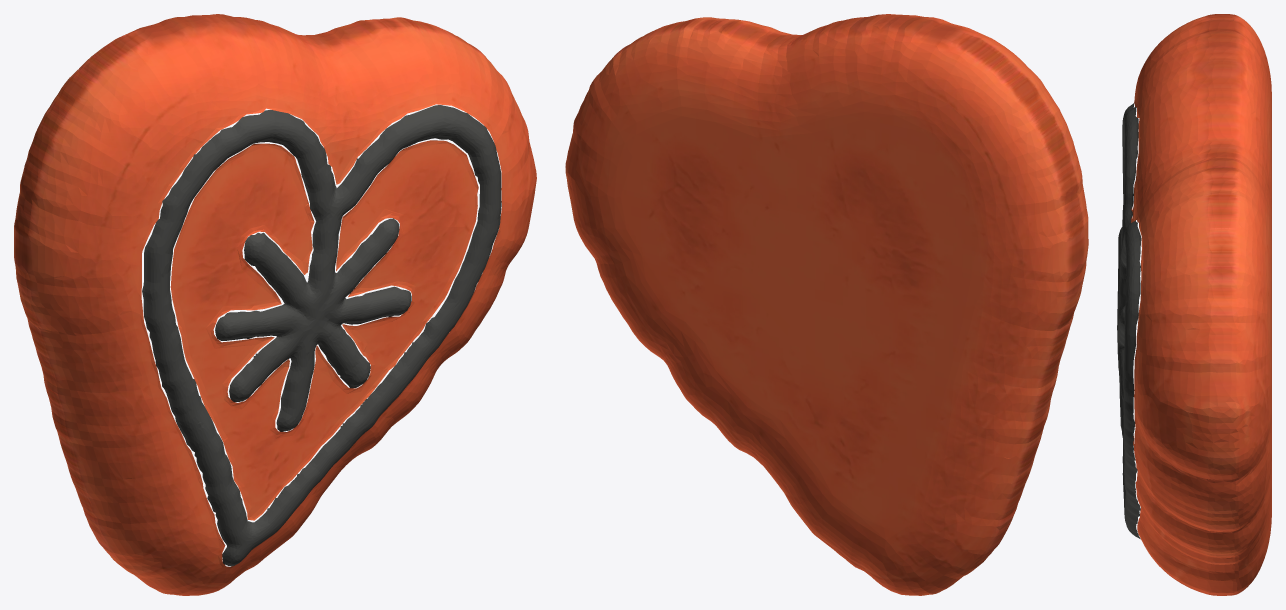
Rendered from IAMWE_XMAS_HEART_ORANGE.glb.
3 views of the same model, side by side, from view 1: azimuth 30°, elevation 25°; view 2: azimuth 150°, elevation 25°; view 3: azimuth 270°, elevation 25° (orthographic). The views are drawn at different scales.
Visible parts, largest first — view 1: heart_orange_paper, heart_orange_thread; view 2: heart_orange_paper; view 3: heart_orange_paper, heart_orange_thread.
Boxes of the visible parts, left/top/right/bottom form: heart_orange_paper: left=14, top=14, right=536, bottom=595; heart_orange_thread: left=142, top=105, right=501, bottom=566; heart_orange_paper: left=565, top=14, right=1088, bottom=595; heart_orange_paper: left=1131, top=14, right=1271, bottom=595; heart_orange_thread: left=1117, top=103, right=1141, bottom=539.
Bounding box in the file's own units: 0.9289 × 1 × 0.254.
Materials: 2 (1 with a texture image).
